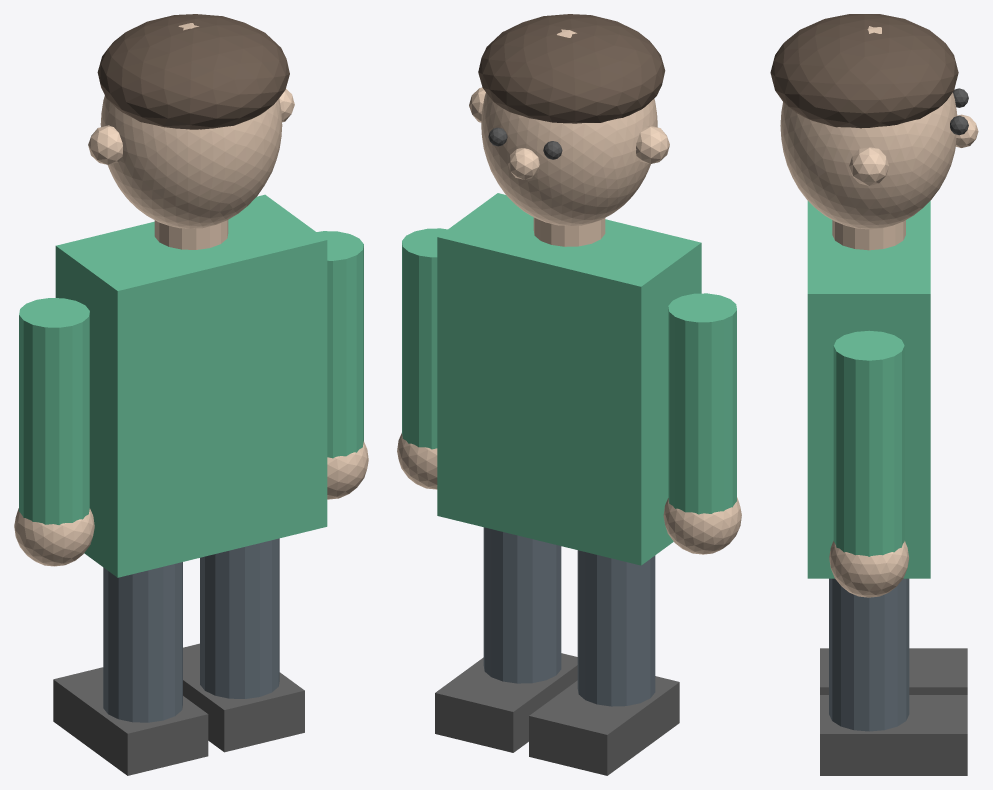
The model's file is student_green.glb.
The picture shows the model from 3 angles, left to right: view 1: azimuth 30°, elevation 25°; view 2: azimuth 150°, elevation 25°; view 3: azimuth 270°, elevation 25°; orthographic projection. The views are drawn at different scales.
Parts seen in each view (by area): view 1: torso, hair, armL, head, legL, legR, shoeL, armR, shoeR, handL, handR, neck (+1 smaller); view 2: torso, hair, armL, head, legL, legR, shoeL, armR, shoeR, handL, handR, neck (+2 smaller); view 3: torso, hair, armR, head, legR, shoeR, shoeL, handR, neck, earR, nose.
Part boxes in pixels (bbox=[...]): torso: bbox=[55, 194, 327, 577]; hair: bbox=[97, 14, 289, 129]; armL: bbox=[19, 298, 89, 524]; head: bbox=[100, 23, 282, 228]; legL: bbox=[103, 562, 182, 722]; legR: bbox=[200, 538, 279, 698]; shoeL: bbox=[53, 667, 208, 775]; armR: bbox=[317, 231, 363, 458]; shoeR: bbox=[183, 643, 304, 752]; handL: bbox=[14, 508, 94, 566]; handR: bbox=[327, 441, 368, 499]; neck: bbox=[154, 220, 228, 249]; torso: bbox=[437, 193, 701, 565]; hair: bbox=[478, 14, 665, 123]; armL: bbox=[668, 293, 736, 514]; head: bbox=[481, 29, 657, 225]; legL: bbox=[577, 550, 655, 706]; legR: bbox=[483, 527, 561, 683]; shoeL: bbox=[529, 676, 679, 775]; armR: bbox=[402, 228, 447, 449]; shoeR: bbox=[435, 653, 577, 752]; handL: bbox=[663, 497, 741, 554]; handR: bbox=[397, 433, 437, 489]; neck: bbox=[533, 217, 605, 246]; torso: bbox=[807, 201, 930, 578]; hair: bbox=[770, 14, 958, 128]; armR: bbox=[833, 330, 904, 556]; head: bbox=[780, 26, 957, 229]; legR: bbox=[829, 578, 909, 731]; shoeR: bbox=[820, 695, 967, 775]; shoeL: bbox=[820, 648, 967, 694]; handR: bbox=[829, 541, 908, 597]; neck: bbox=[832, 220, 905, 250]; earR: bbox=[849, 147, 888, 185]; nose: bbox=[956, 114, 978, 147].
Size of the model in its own units: 1.28 by 2.52 by 0.6755.
